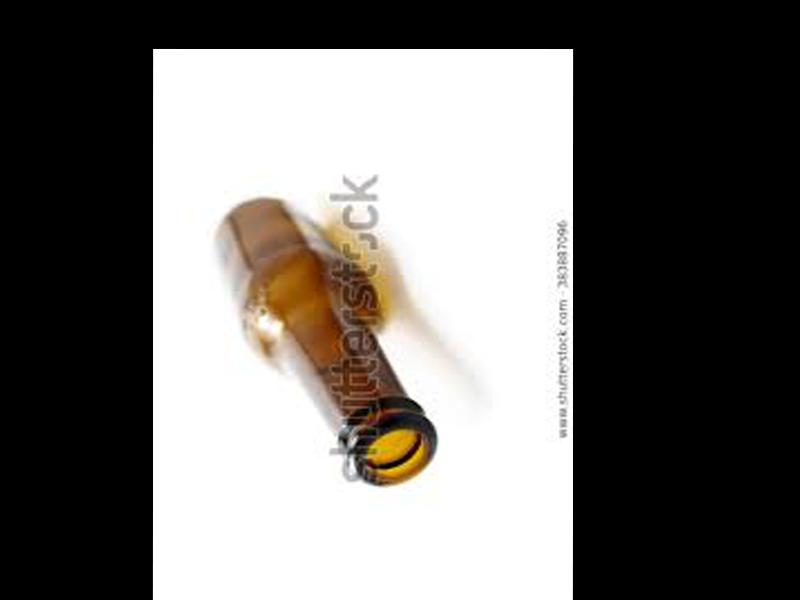Beer: (215, 196, 439, 487)
